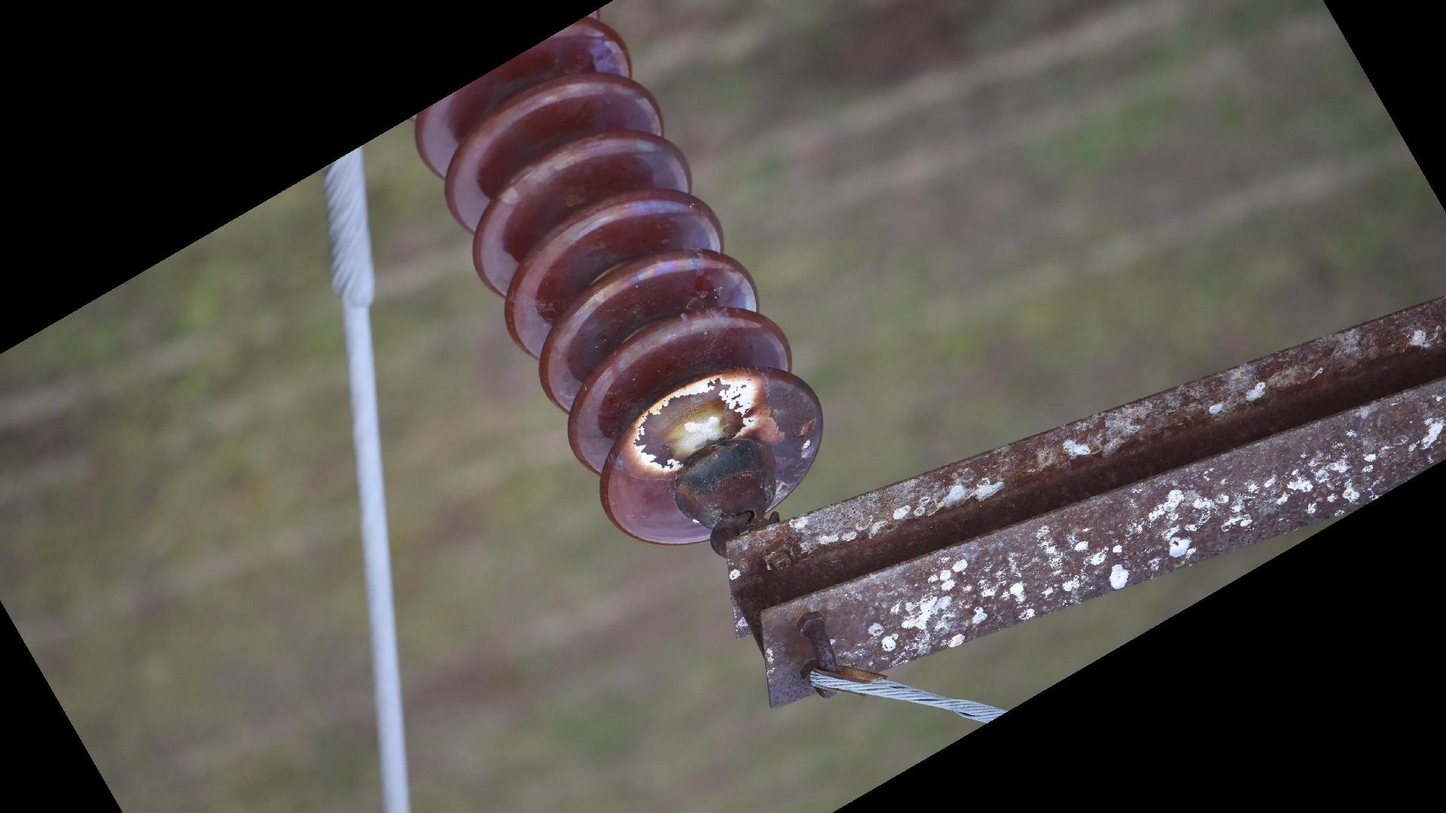insulator: (407, 9, 831, 559)
insulator_flashover: (633, 367, 767, 475)
